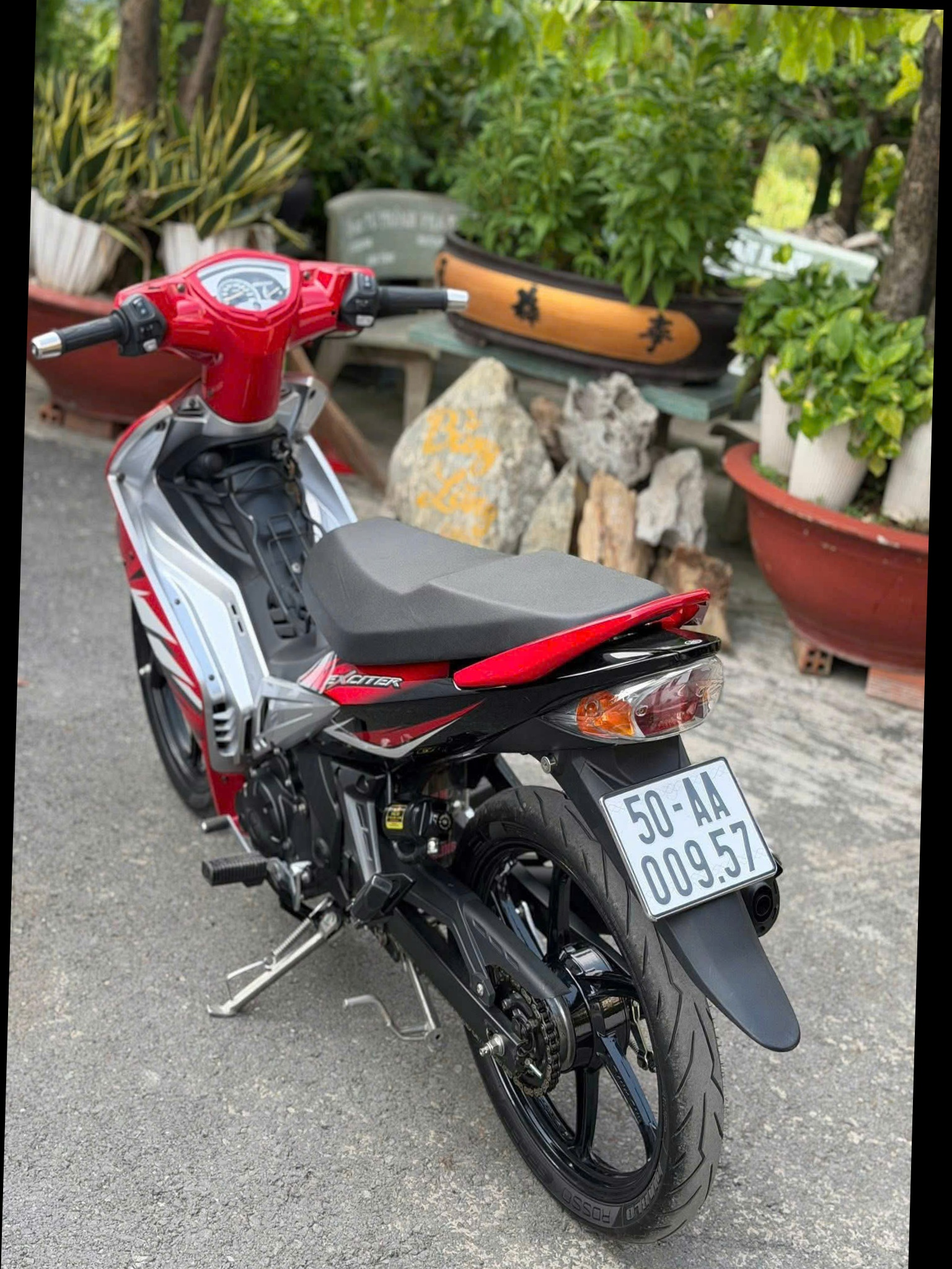Bien-so: (615, 757, 831, 926)
